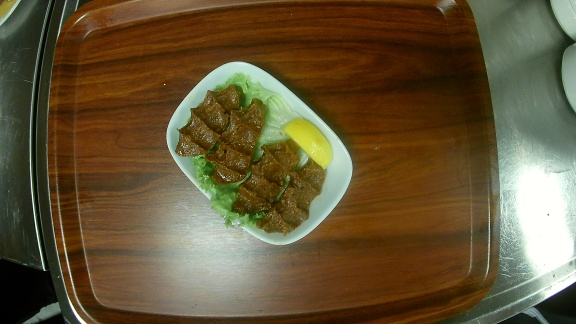cigkofte: (168, 61, 353, 247)
